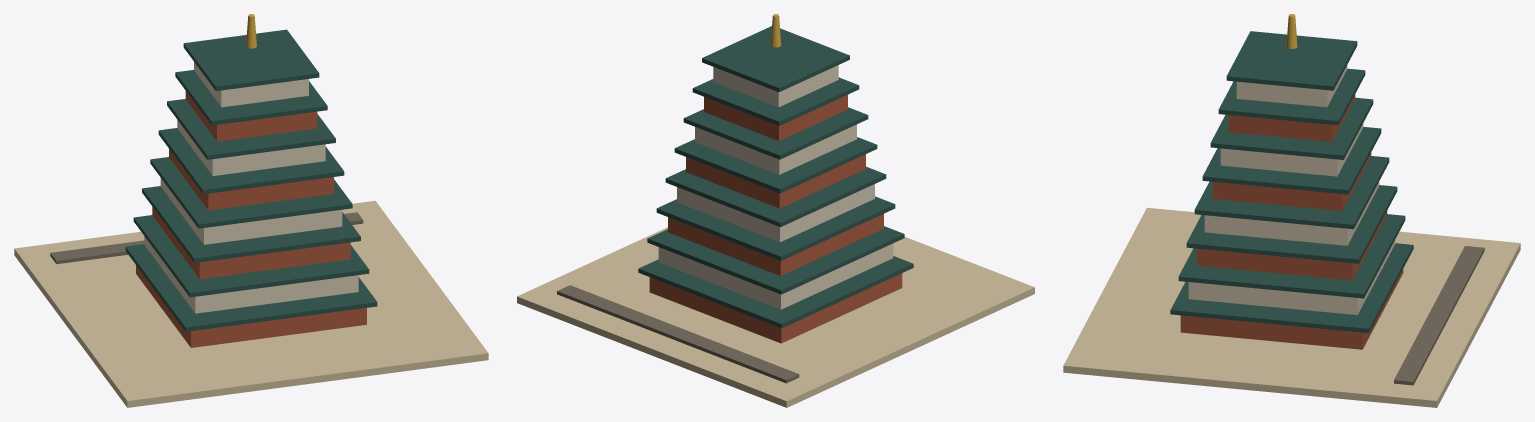
Rendered from model-medium.glb.
3 views of the same model, side by side, from view 1: azimuth 30°, elevation 25°; view 2: azimuth 150°, elevation 25°; view 3: azimuth 270°, elevation 25° (orthographic). The views are drawn at different scales.
Parts seen in each view (by area): view 1: context_site_plinth, pagoda_eave_8, pagoda_eave_1, pagoda_eave_2, pagoda_eave_3, pagoda_eave_4, pagoda_eave_5, pagoda_storey_1, pagoda_eave_6, pagoda_storey_2, pagoda_storey_3, pagoda_eave_7 (+6 smaller); view 2: context_site_plinth, pagoda_eave_8, pagoda_eave_1, pagoda_eave_2, pagoda_eave_3, pagoda_eave_4, pagoda_storey_1, pagoda_storey_2, pagoda_eave_5, front_scale_strip, pagoda_storey_3, pagoda_eave_6 (+6 smaller); view 3: context_site_plinth, pagoda_eave_8, pagoda_eave_1, pagoda_eave_2, pagoda_eave_3, pagoda_eave_4, pagoda_eave_5, pagoda_storey_1, pagoda_eave_6, pagoda_storey_2, front_scale_strip, pagoda_eave_7 (+6 smaller).
Boxes of the visible parts, x1,y1,x2,y2 form: context_site_plinth: (14, 200, 488, 407); pagoda_eave_8: (183, 29, 319, 90); pagoda_eave_1: (125, 244, 377, 331); pagoda_eave_2: (133, 215, 369, 297); pagoda_eave_3: (142, 186, 360, 262); pagoda_eave_4: (150, 157, 352, 228); pagoda_eave_5: (158, 128, 344, 194); pagoda_storey_1: (136, 265, 366, 347); pagoda_eave_6: (167, 99, 335, 159); pagoda_storey_2: (144, 236, 358, 313); pagoda_storey_3: (152, 207, 350, 279); pagoda_eave_7: (175, 70, 327, 125); context_site_plinth: (517, 227, 1034, 407); pagoda_eave_8: (702, 26, 849, 91); pagoda_eave_1: (638, 256, 913, 328); pagoda_eave_2: (647, 226, 904, 294); pagoda_eave_3: (656, 196, 895, 260); pagoda_eave_4: (665, 166, 886, 226); pagoda_storey_1: (649, 273, 902, 343); pagoda_storey_2: (658, 243, 893, 309); pagoda_eave_5: (674, 137, 877, 193); front_scale_strip: (557, 285, 799, 383); pagoda_storey_3: (668, 214, 883, 275); pagoda_eave_6: (683, 107, 868, 159); context_site_plinth: (1063, 207, 1520, 407); pagoda_eave_8: (1226, 31, 1357, 90); pagoda_eave_1: (1170, 243, 1413, 332); pagoda_eave_2: (1178, 214, 1405, 298); pagoda_eave_3: (1186, 185, 1397, 263); pagoda_eave_4: (1194, 156, 1389, 229); pagoda_eave_5: (1202, 127, 1381, 194); pagoda_storey_1: (1180, 269, 1403, 349); pagoda_eave_6: (1210, 97, 1373, 159); pagoda_storey_2: (1188, 240, 1395, 314); front_scale_strip: (1394, 246, 1484, 385); pagoda_eave_7: (1218, 68, 1365, 125).
Size of the model in its own units: 9.55 by 6.82 by 9.55.
